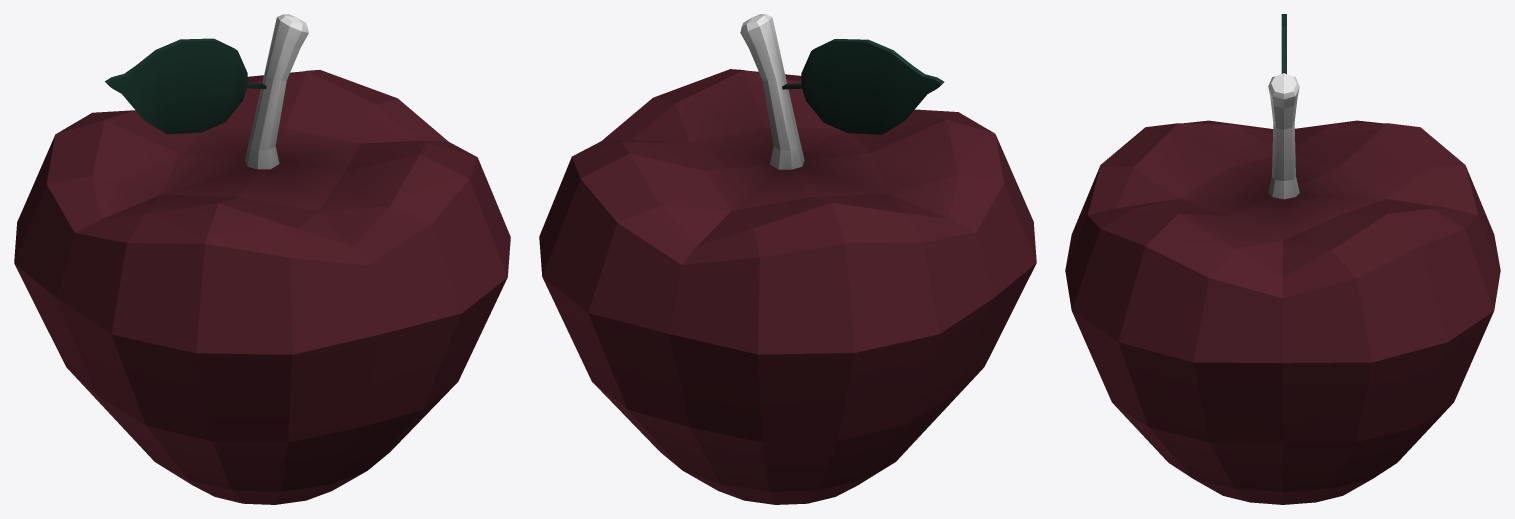
Rendered from pq_pomme.glb.
The picture shows the model from 3 angles, left to right: view 1: azimuth 30°, elevation 25°; view 2: azimuth 150°, elevation 25°; view 3: azimuth 270°, elevation 25°; orthographic projection. The views are drawn at different scales.
Parts seen in each view (by area): view 1: Apple; view 2: Apple; view 3: Apple.
Part boxes in pixels (box(x1,y1,x2,y2)): Apple: box(14, 14, 510, 504); Apple: box(539, 14, 1036, 504); Apple: box(1065, 14, 1500, 504).
Size of the model in its own units: 0.0802 by 0.0852 by 0.0799.
